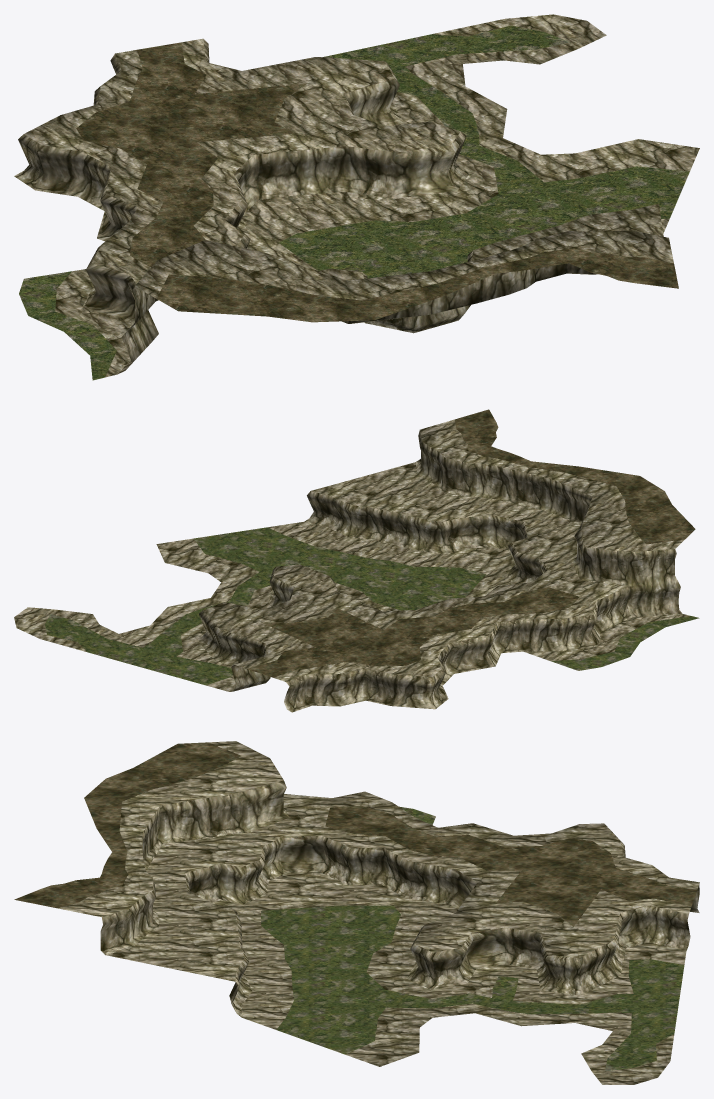
File: CB_NEWPLAYSURFACE_CB_PLAYSURFACE64.fbx
3 views of the same model, one above another, from view 1: azimuth 30°, elevation 25°; view 2: azimuth 150°, elevation 25°; view 3: azimuth 270°, elevation 25° (orthographic). The views are drawn at different scales.
Parts seen in each view (by area): view 1: CB_NEWPLAYSURFACE_CB_PLAYSURFACE64; view 2: CB_NEWPLAYSURFACE_CB_PLAYSURFACE64; view 3: CB_NEWPLAYSURFACE_CB_PLAYSURFACE64.
Part boxes in pixels (x1,y1,x2,y2): CB_NEWPLAYSURFACE_CB_PLAYSURFACE64: (14,14,699,380); CB_NEWPLAYSURFACE_CB_PLAYSURFACE64: (14,409,699,712); CB_NEWPLAYSURFACE_CB_PLAYSURFACE64: (14,741,699,1084).
Size of the model in its own units: 645536 by 72729 by 647101.
Materials: 4 (4 with a texture image).
